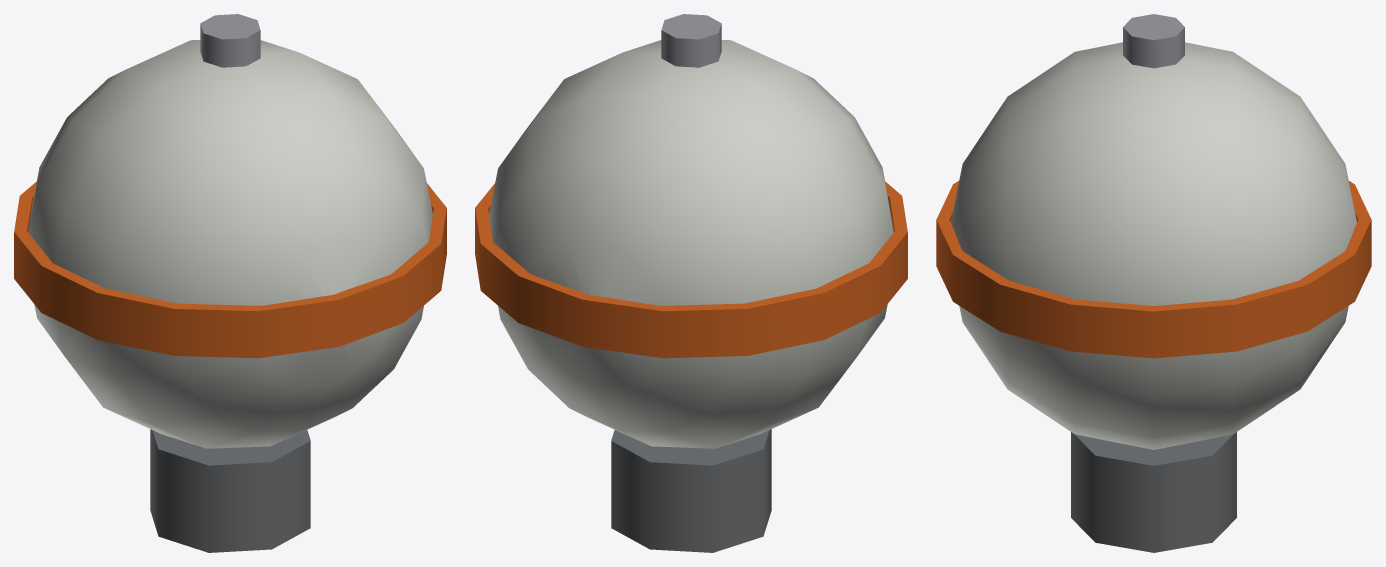
Rendered from o4_water.obj.
The picture shows the model from 3 angles, left to right: view 1: azimuth 30°, elevation 25°; view 2: azimuth 150°, elevation 25°; view 3: azimuth 270°, elevation 25°; orthographic projection.
Parts seen in each view (by area): view 1: o4_water; view 2: o4_water; view 3: o4_water.
Part boxes in pixels (x1,y1,x2,y2): o4_water: [14, 14, 446, 552]; o4_water: [475, 14, 907, 552]; o4_water: [936, 14, 1371, 552].
Bounding box in the file's own units: 0.84 × 1.05 × 0.84.
